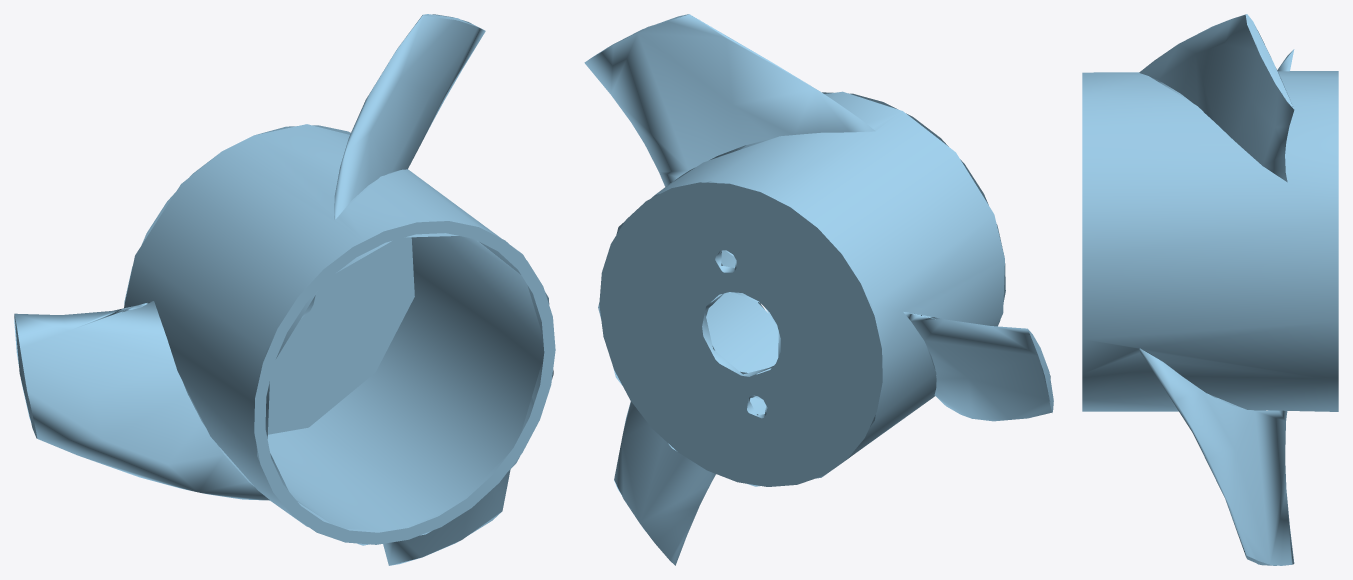
The model's file is t200_prop_ccw.obj.
3 renders of one model, left to right at view 1: azimuth 30°, elevation 25°; view 2: azimuth 150°, elevation 25°; view 3: azimuth 270°, elevation 25°, orthographic. The views are drawn at different scales.
Visible parts, largest first — view 1: mesh3; view 2: mesh3; view 3: mesh3.
Boxes of the visible parts, bbox=[...] form: mesh3: bbox=[14, 14, 555, 565]; mesh3: bbox=[584, 14, 1053, 565]; mesh3: bbox=[1082, 14, 1338, 565].
Bounding box in the file's own units: 0.0632 × 0.0717 × 0.03.
